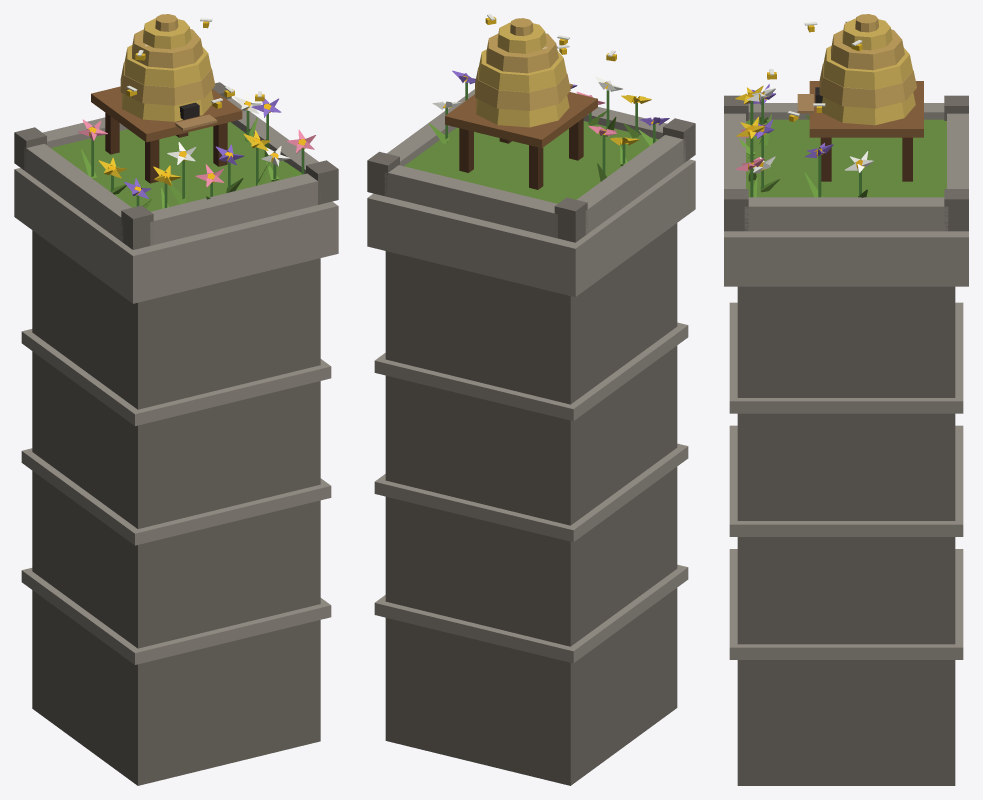
File: decor_beehive.glb
The picture shows the model from 3 angles, left to right: view 1: azimuth 30°, elevation 25°; view 2: azimuth 150°, elevation 25°; view 3: azimuth 270°, elevation 25°; orthographic projection. The views are drawn at different scales.
Parts seen in each view (by area): view 1: decor_beehive; view 2: decor_beehive; view 3: decor_beehive.
Boxes of the visible parts, box(x1,y1,x2,y2) form: decor_beehive: box(14, 14, 338, 785); decor_beehive: box(367, 14, 695, 785); decor_beehive: box(724, 14, 968, 785).
Size of the model in its own units: 1.8 by 5.86 by 1.8.
